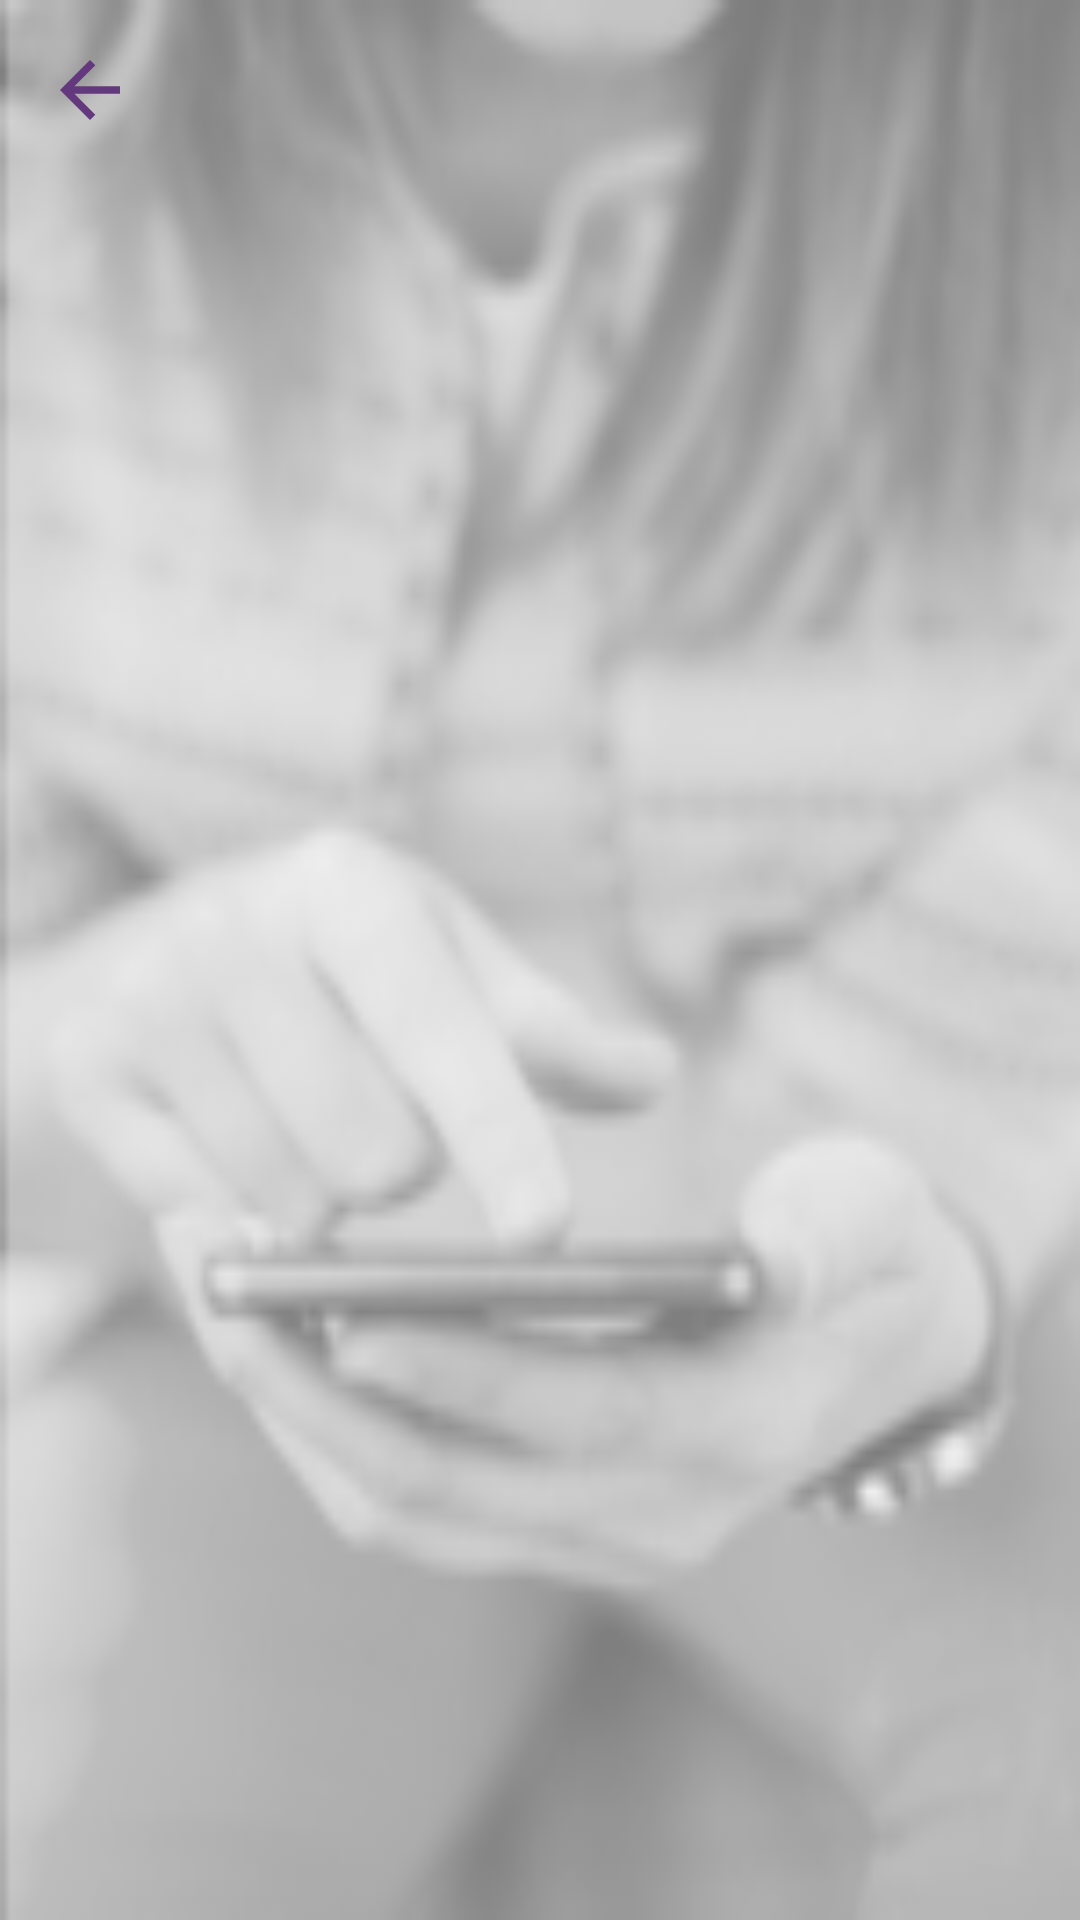

Named icons in this screenshot (1080x1920) and their centers, (x=x, y=y):
arrow back: (x=82, y=97)
